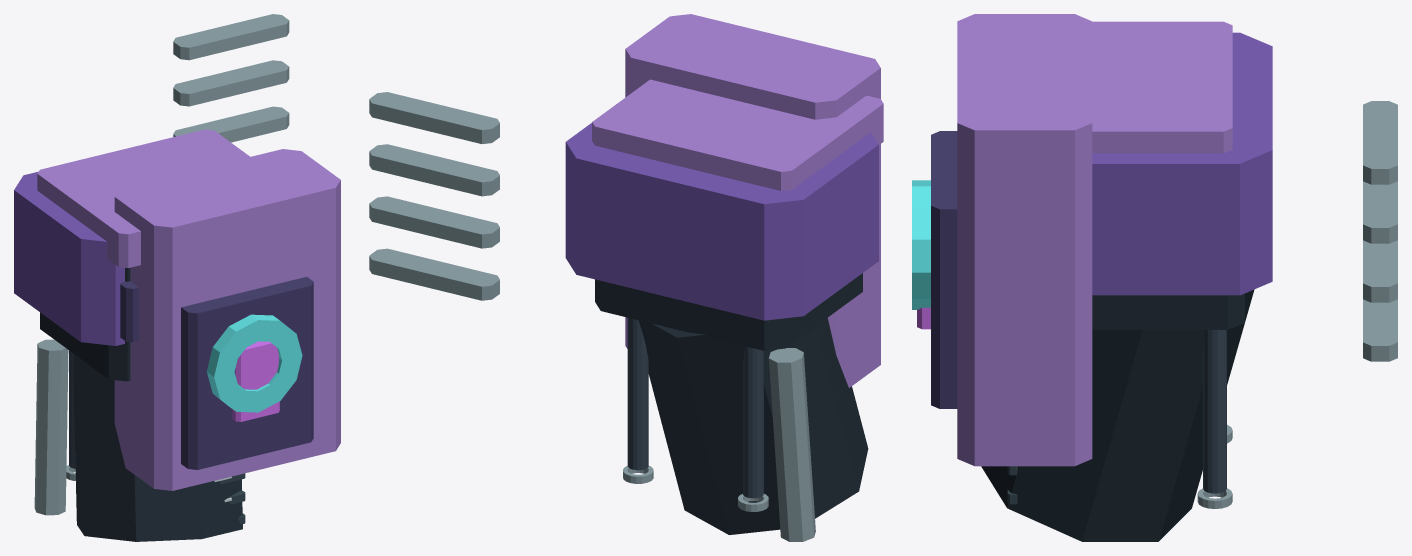
The model's file is enemy_tank_4k_upper_arm_l.obj.
3 renders of one model, left to right at view 1: azimuth 30°, elevation 25°; view 2: azimuth 150°, elevation 25°; view 3: azimuth 270°, elevation 25°, orthographic. The views are drawn at different scales.
Bounding box in the file's own units: 0.96 × 1.08 × 0.97.
